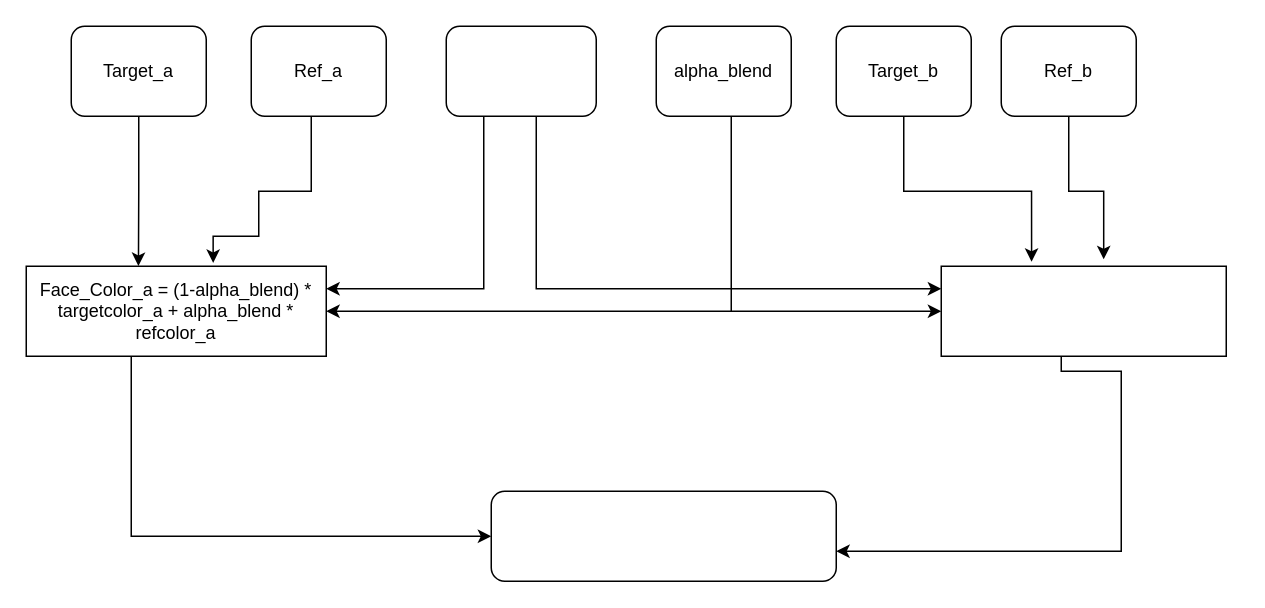
The diagram is 1265 pixels wide and 608 high, and some of its shapes have lost their labels. The centre of each missing label's shape, as x and y in pixels:
[Face_Color_a, Face_Color_b]: the point at 663,535
Face_Color_b = (1-alpha_blend) * targetcolor_b + alpha_blend * refcolor_b: the point at 1083,310
Taget_Face_Cut: the point at 520,70
